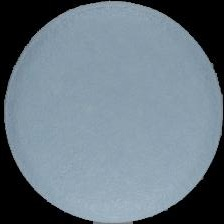16590-994: (0, 0, 224, 224)
